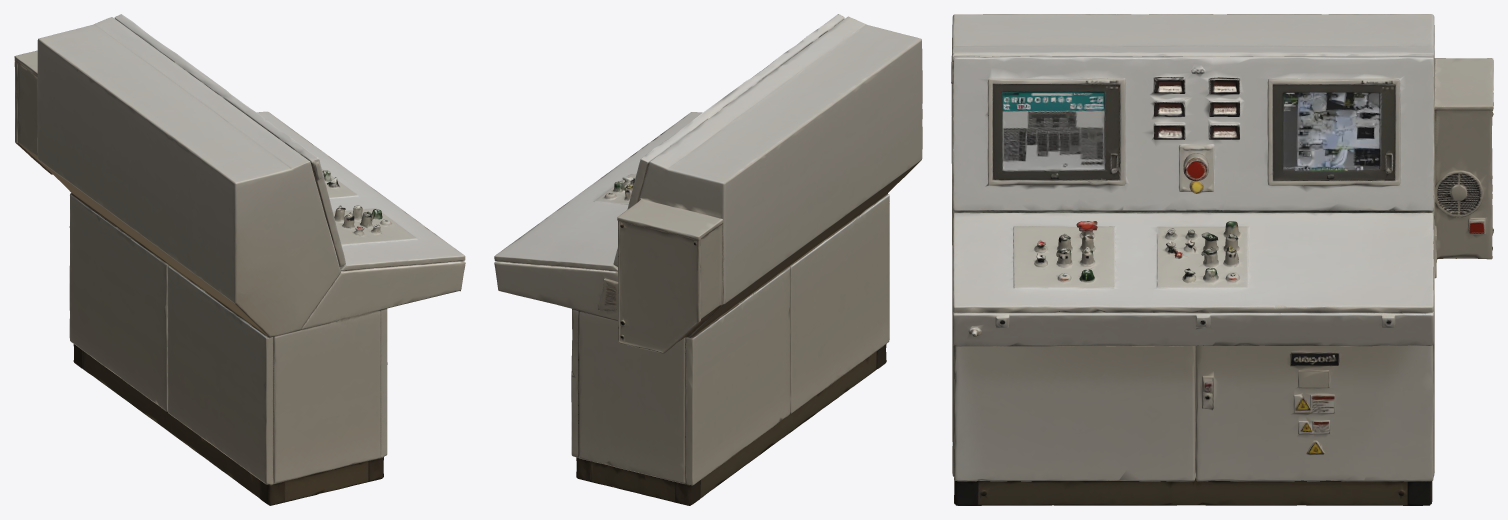
File: controlpanel3d.glb
The picture shows the model from 3 angles, left to right: view 1: azimuth 30°, elevation 25°; view 2: azimuth 150°, elevation 25°; view 3: azimuth 270°, elevation 25°; orthographic projection. The views are drawn at different scales.
Visible parts, largest first — view 1: tripo_node_414da6db-c0e7-4043-807b-23e03d4e6066; view 2: tripo_node_414da6db-c0e7-4043-807b-23e03d4e6066; view 3: tripo_node_414da6db-c0e7-4043-807b-23e03d4e6066.
Boxes of the visible parts, x1,y1,x2,y2 form: tripo_node_414da6db-c0e7-4043-807b-23e03d4e6066: (14,14,465,505); tripo_node_414da6db-c0e7-4043-807b-23e03d4e6066: (494,14,922,505); tripo_node_414da6db-c0e7-4043-807b-23e03d4e6066: (951,14,1493,505).
Bounding box in the file's own units: 0.6163 × 0.8343 × 1.
Materials: 1 (1 with a texture image).
